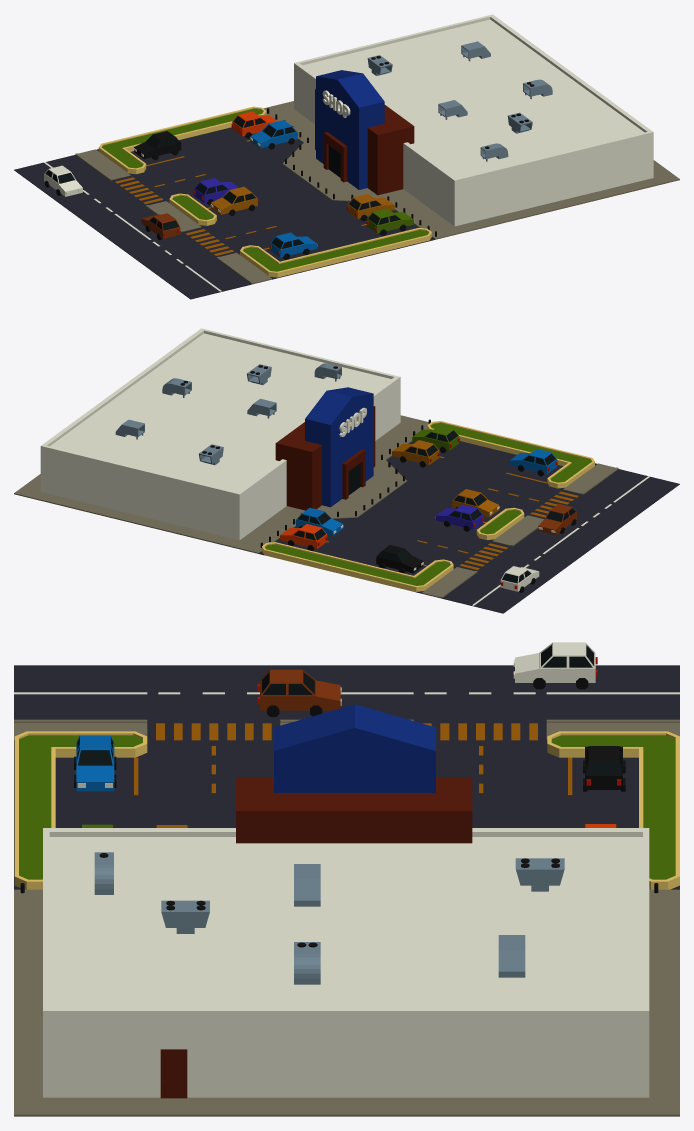
The model's file is Shop 02.fbx.
The picture shows the model from 3 angles, top to bottom: view 1: azimuth 30°, elevation 25°; view 2: azimuth 150°, elevation 25°; view 3: azimuth 270°, elevation 25°; orthographic projection. The views are drawn at different scales.
Visible parts, largest first — view 1: Box368, Box373, Plane001, Cylinder129, Box366, Box365, road_001, road_002, road, road001, road003, Box367 (+11 smaller); view 2: Box368, Box373, Plane001, Cylinder129, Box366, Box365, road_001, road_002, road, road003, road001, Box367 (+11 smaller); view 3: Box368, Box373, Plane001, Cylinder129, Box365, Box366, road_002, road_001, road, road003, road001, Box400 (+14 smaller).
Part boxes in pixels (x1=…): Box368: x1=294, y1=14, x2=653, y2=226; Box373: x1=96, y1=127, x2=435, y2=279; Plane001: x1=263, y1=101, x2=679, y2=239; Cylinder129: x1=98, y1=106, x2=431, y2=277; Box366: x1=316, y1=70, x2=384, y2=189; Box365: x1=315, y1=89, x2=414, y2=195; road_001: x1=120, y1=227, x2=235, y2=273; road_002: x1=49, y1=175, x2=165, y2=221; road: x1=155, y1=258, x2=251, y2=299; road001: x1=84, y1=206, x2=180, y2=247; road003: x1=14, y1=155, x2=109, y2=195; Box367: x1=323, y1=132, x2=347, y2=182; Box368: x1=40, y1=328, x2=400, y2=540; Box373: x1=258, y1=441, x2=597, y2=593; Plane001: x1=14, y1=415, x2=428, y2=553; Cylinder129: x1=262, y1=421, x2=594, y2=592; Box366: x1=305, y1=387, x2=373, y2=507; Box365: x1=275, y1=406, x2=375, y2=510; road_001: x1=529, y1=490, x2=644, y2=535; road_002: x1=458, y1=541, x2=573, y2=587; road: x1=584, y1=469, x2=679, y2=509; road003: x1=442, y1=572, x2=538, y2=613; road001: x1=513, y1=526, x2=608, y2=561; Box367: x1=342, y1=449, x2=365, y2=499; Box368: x1=43, y1=828, x2=649, y2=1097; Box373: x1=14, y1=740, x2=679, y2=889; Plane001: x1=14, y1=889, x2=679, y2=1116; Cylinder129: x1=14, y1=731, x2=679, y2=889; Box365: x1=236, y1=777, x2=472, y2=843; Box366: x1=274, y1=704, x2=435, y2=792; road_002: x1=413, y1=665, x2=546, y2=740; road_001: x1=147, y1=665, x2=280, y2=740; road: x1=14, y1=665, x2=147, y2=719; road003: x1=546, y1=665, x2=679, y2=719; road001: x1=280, y1=665, x2=413, y2=719; Box400: x1=257, y1=669, x2=341, y2=710.
Bounding box in the file's own units: 4800 × 898 × 3000.
